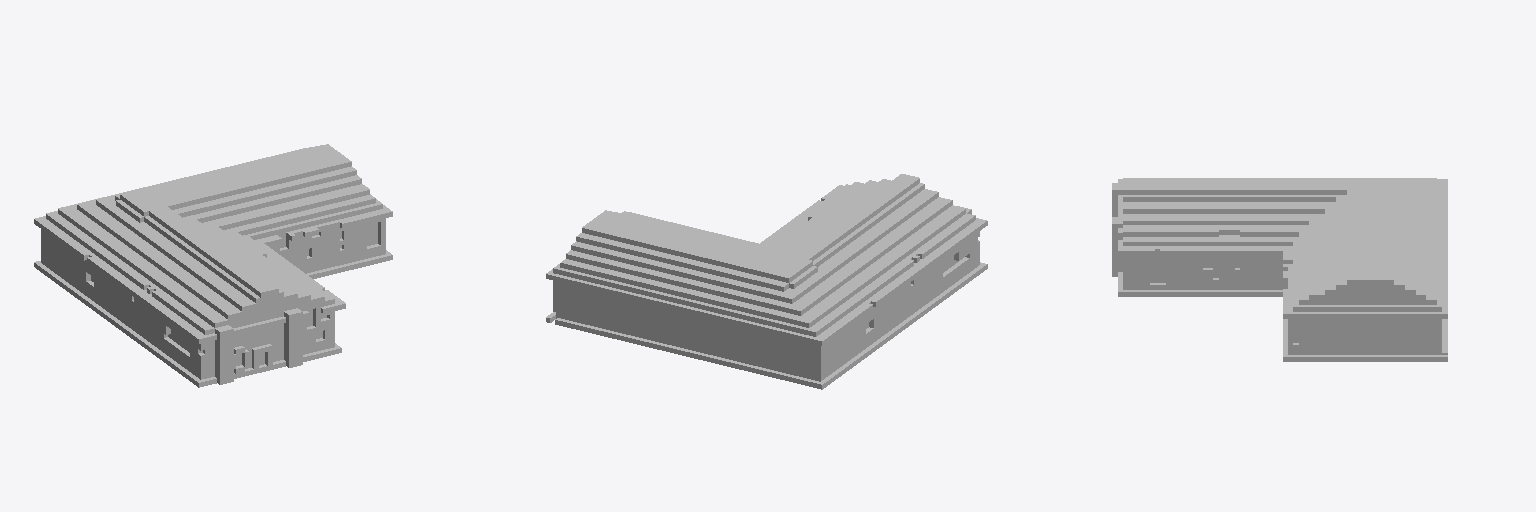
File: t1 Church.obj
3 views of the same model, side by side, from view 1: azimuth 30°, elevation 25°; view 2: azimuth 150°, elevation 25°; view 3: azimuth 270°, elevation 25° (orthographic).
Parts seen in each view (by area): view 1: object 1; view 2: object 1; view 3: object 1.
Part boxes in pixels (x1,y1,x2,y2): object 1: (34,144,392,387); object 1: (546,174,987,389); object 1: (1112,178,1447,361).
Size of the model in its own units: 6 by 1.6 by 6.3.